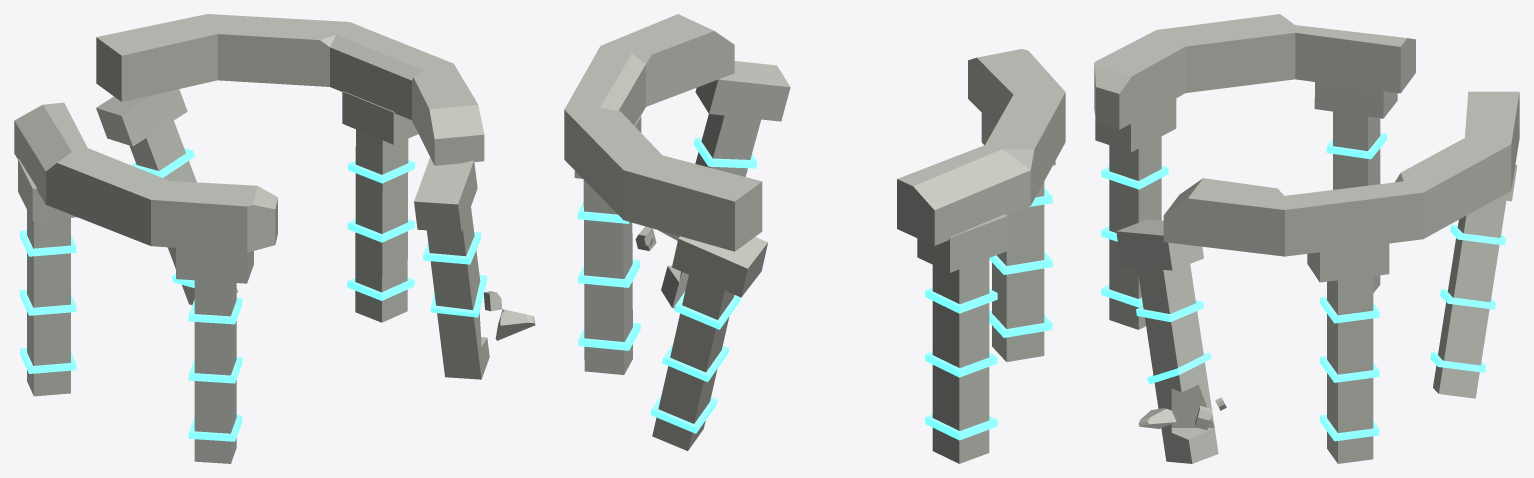
File: Ruine_1.fbx
The picture shows the model from 3 angles, left to right: view 1: azimuth 30°, elevation 25°; view 2: azimuth 150°, elevation 25°; view 3: azimuth 270°, elevation 25°; orthographic projection. The views are drawn at different scales.
Visible parts, largest first — view 1: Ruine onderdeel 3; view 2: Ruine onderdeel 3; view 3: Ruine onderdeel 3.
Boxes of the visible parts, x1,y1,x2,y2 form: Ruine onderdeel 3: [14, 14, 535, 463]; Ruine onderdeel 3: [564, 14, 1065, 463]; Ruine onderdeel 3: [1094, 14, 1519, 463].
Bounding box in the file's own units: 630 × 386 × 554.
